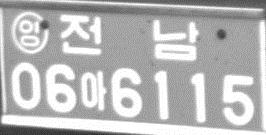0: (10, 61, 42, 111)
1: (182, 71, 215, 122), (146, 70, 177, 120)
5: (221, 73, 255, 126)
6: (109, 67, 143, 118), (44, 62, 77, 113)
아: (79, 69, 107, 111)
영: (10, 11, 49, 54)
전남_D: (59, 13, 199, 61)
